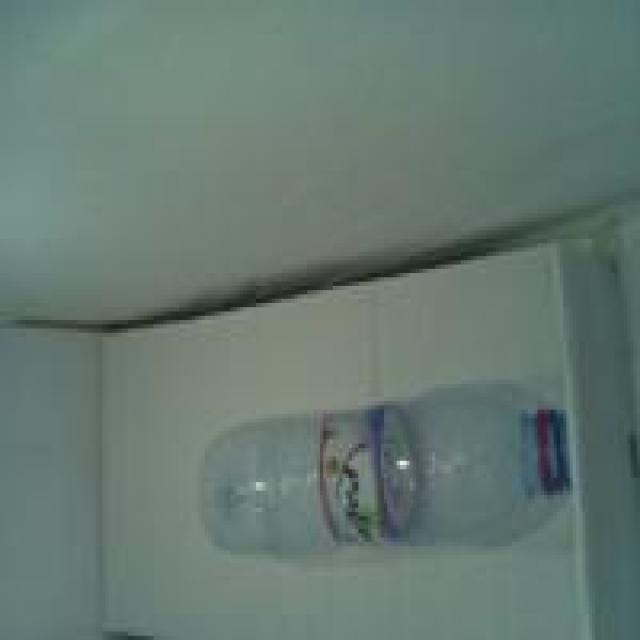Pet_Bottle: (198, 379, 570, 572)
